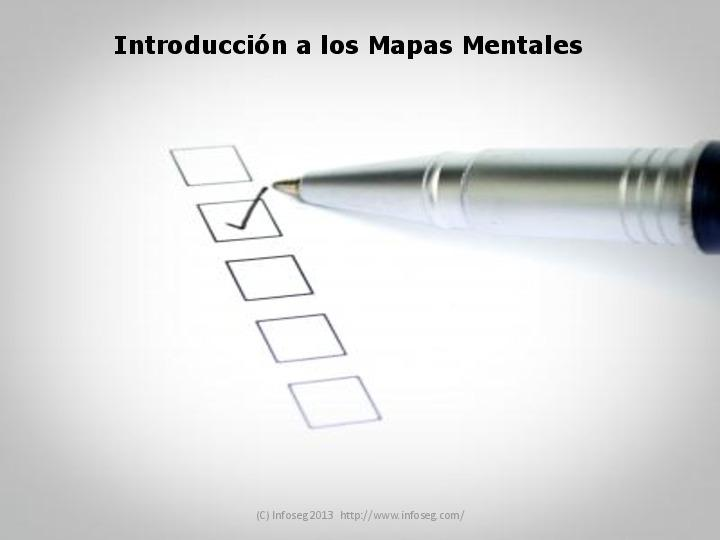title: (100, 26, 593, 76)
